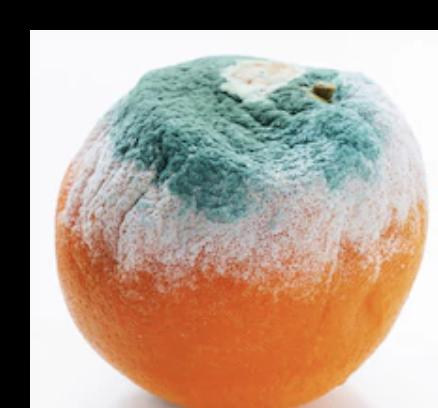Orange Rotten: (42, 50, 438, 408)
